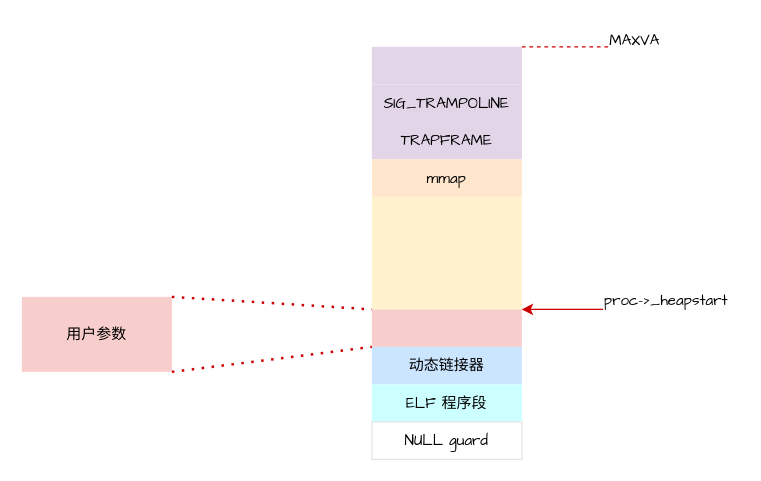
This 761x481 diagram has some shape labels left out. The shapes that lost their labels are listed below. From the top down, each one's centre as x and y in pixels, then its label:
At (x=446, y=65): "TRAMPOLINE".
At (x=446, y=252): "Heap".
At (x=446, y=327): "用户栈".
